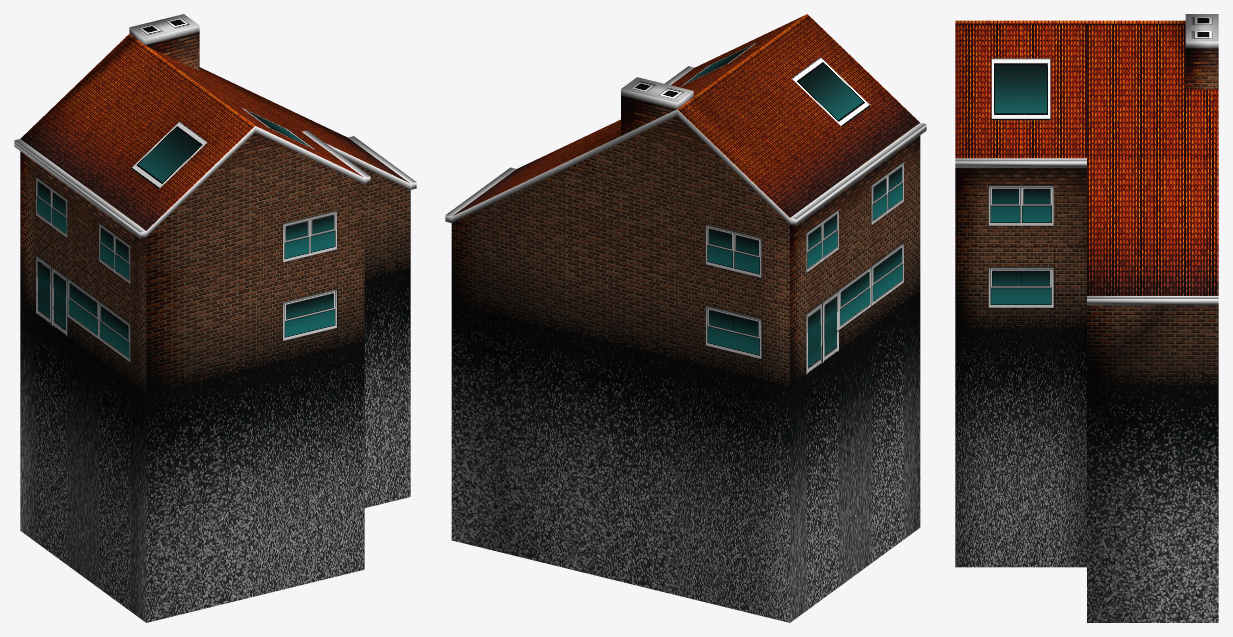
The model's file is doorzon_mod3_1a.fbx.
3 renders of one model, left to right at view 1: azimuth 30°, elevation 25°; view 2: azimuth 150°, elevation 25°; view 3: azimuth 270°, elevation 25°, orthographic. The views are drawn at different scales.
Visible parts, largest first — view 1: doorzon_mod3_1a; view 2: doorzon_mod3_1a; view 3: doorzon_mod3_1a.
Part boxes in pixels (x1=…): doorzon_mod3_1a: x1=14, y1=14, x2=416, y2=622; doorzon_mod3_1a: x1=445, y1=14, x2=926, y2=622; doorzon_mod3_1a: x1=955, y1=14, x2=1218, y2=622.
Size of the model in its own units: 1400 by 1879 by 900.
